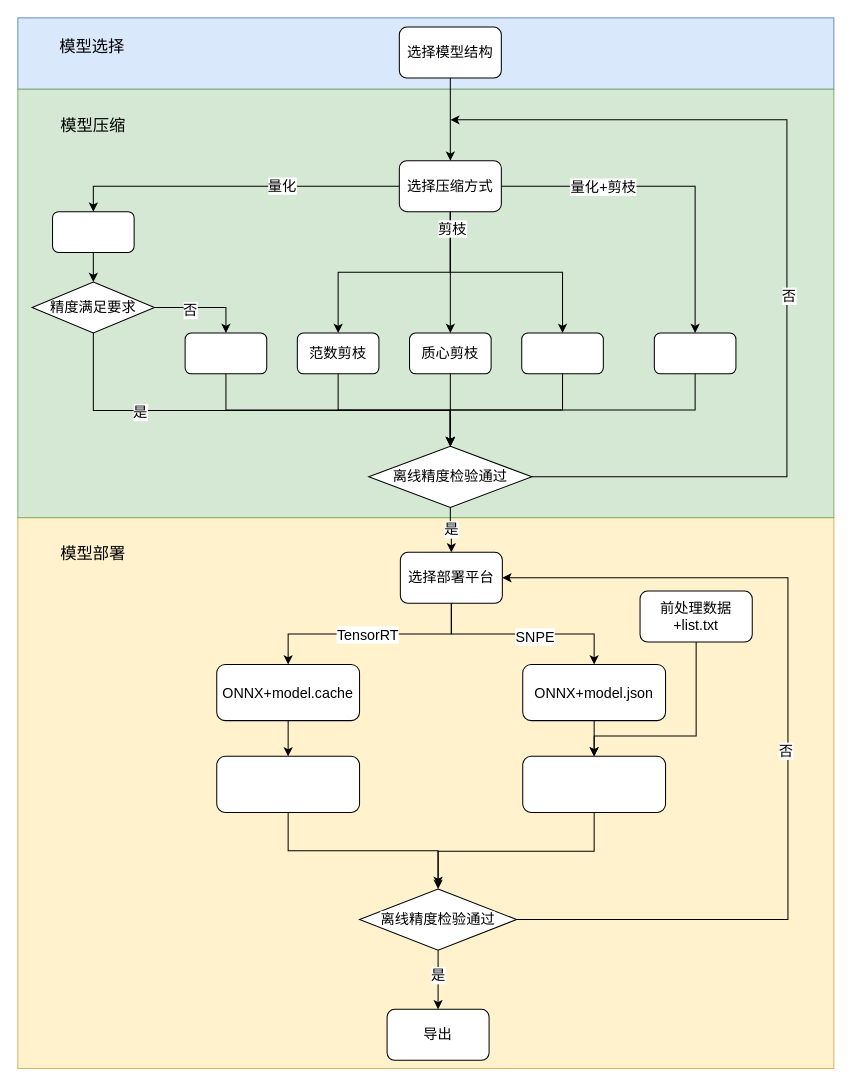
The diagram is 852 pixels wide and 1086 high, and some of its shapes have lost their labels. Each missing label, with the centre of its shape:
SSPQ: the point at 694,353
在部署机器上转换: the point at 288,783
混合剪枝: the point at 562,353
训练后量化: the point at 93,231
训练感知量化: the point at 225,353
设定推理芯片 CPU/GPU/DSP: the point at 594,783
